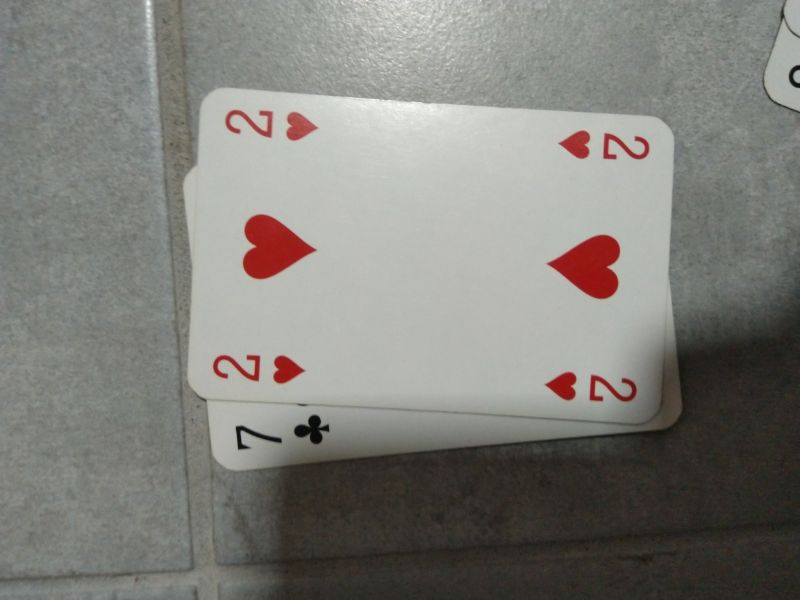2h: (215, 100, 324, 149), (552, 119, 658, 169), (541, 363, 646, 411), (208, 343, 311, 391)
7c: (227, 407, 337, 456)
